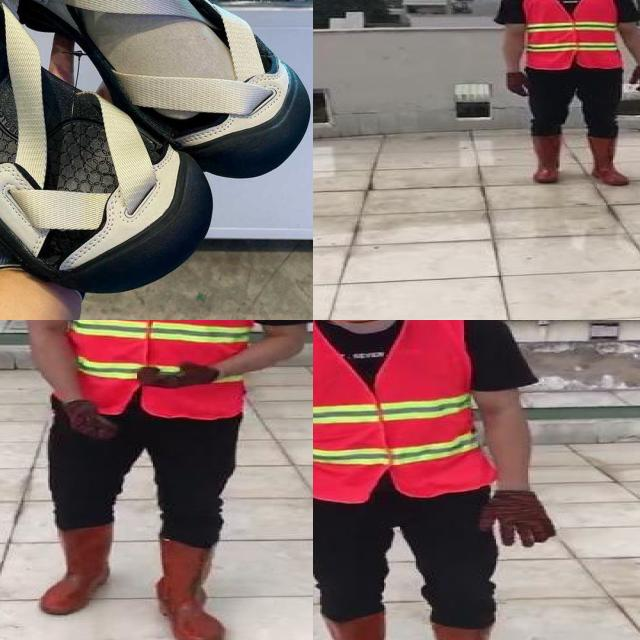Sandals: (0, 0, 313, 320)
boots: (36, 521, 114, 617), (153, 539, 227, 640), (313, 612, 393, 640), (585, 137, 627, 187), (528, 132, 565, 184)
hand_glove: (484, 489, 556, 547), (135, 360, 217, 388), (62, 402, 118, 438), (503, 73, 531, 99), (629, 64, 640, 91)
head_helmet: (313, 320, 566, 640), (490, 0, 640, 187)
person: (11, 320, 313, 640)
vest: (313, 320, 497, 500), (62, 320, 257, 423), (520, 0, 621, 71)
